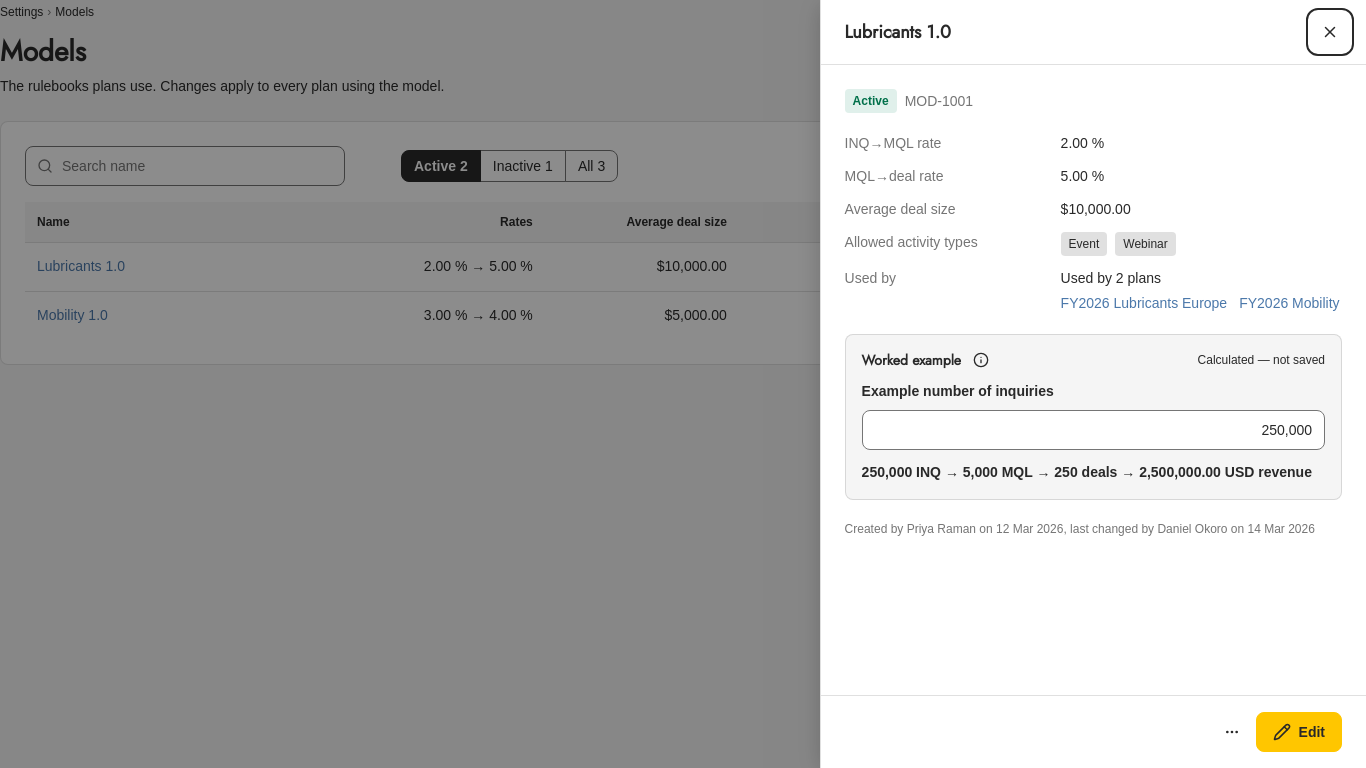
ModelsPage: create and edit (US1 scenarios 1, 4, 5, 6) › asks before a change that recalculates goals, and saves only the changed fields (scenario 4)
Click the button "Edit" at (1299, 732), box [1256,712,1342,752]
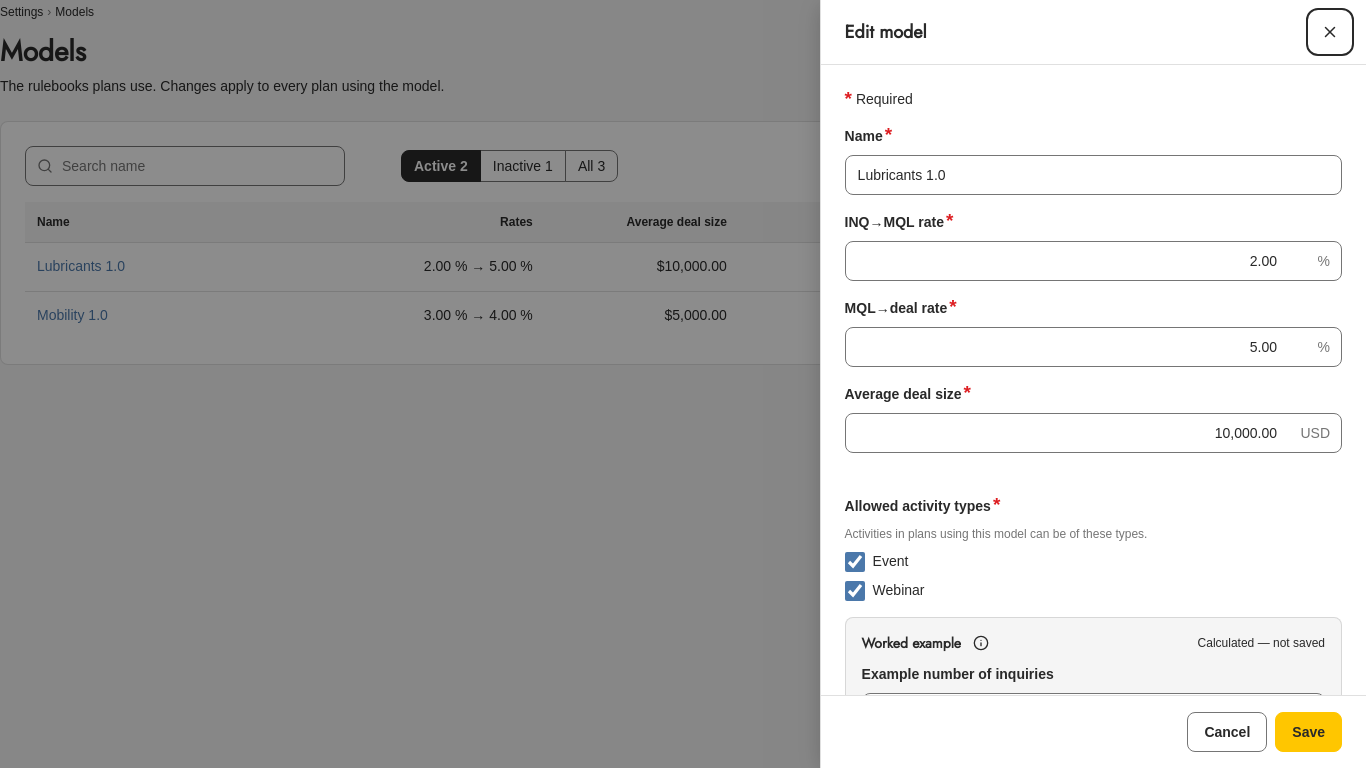
Replace the text in the field labelled "INQ→MQL rate" with "2.5" at (1093, 261), box [845,241,1342,281]
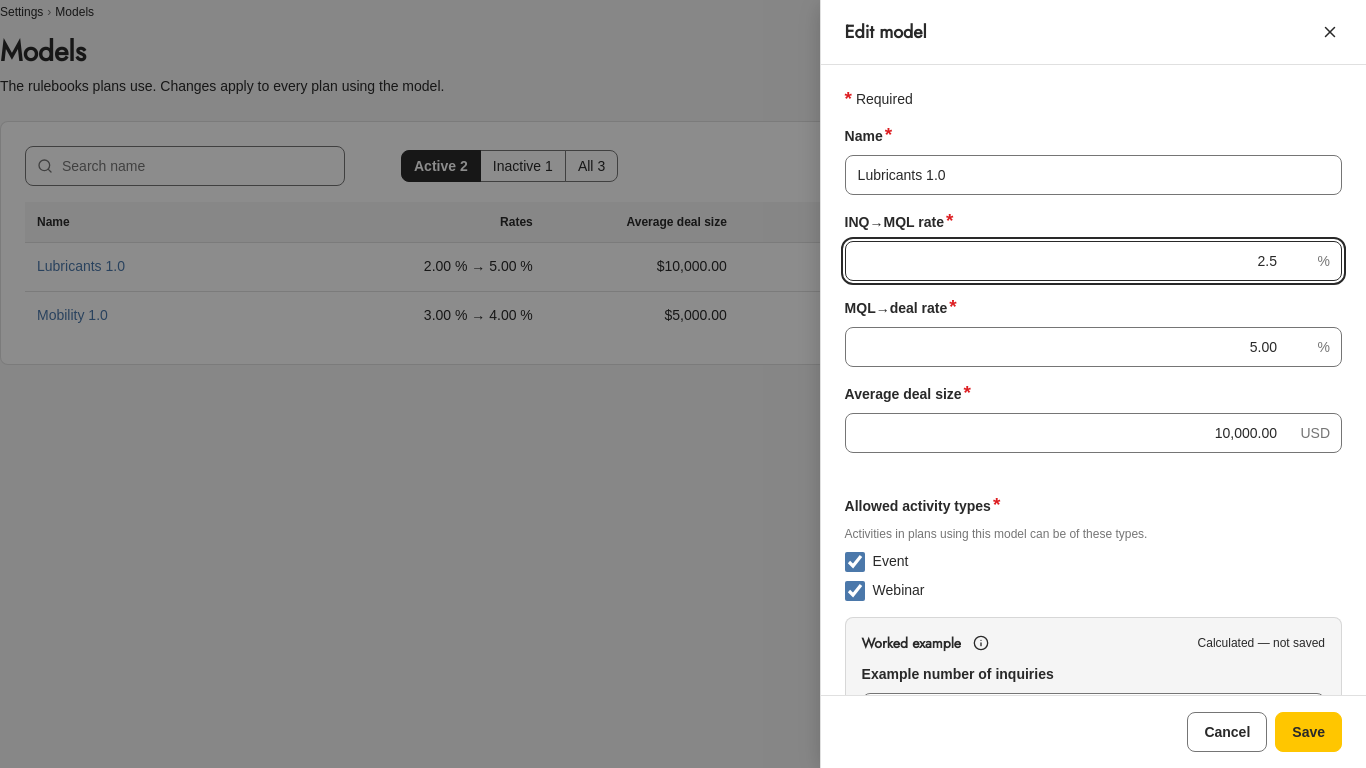
Click the button "Save" at (1309, 732), box [1275,712,1342,752]
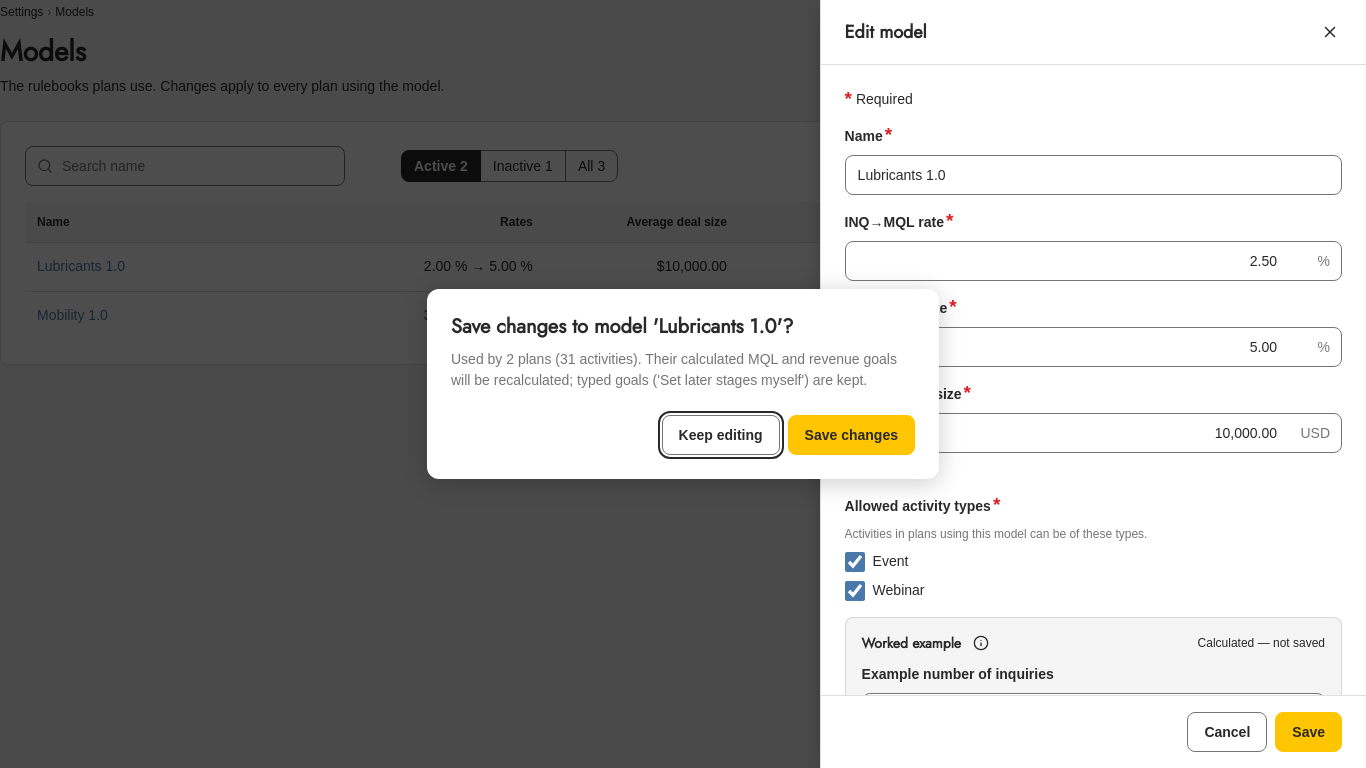
Now the dialog "Save changes to model 'Lubricants 1.0'?" shows "Used by 2 plans (31 activities). Their calculated MQL and revenue goals will be recalculated; typed goals ('Set later stages myself') are kept.", box [451,351,897,388]
Click the button "Save changes" at (851, 435), box [788,415,915,455]
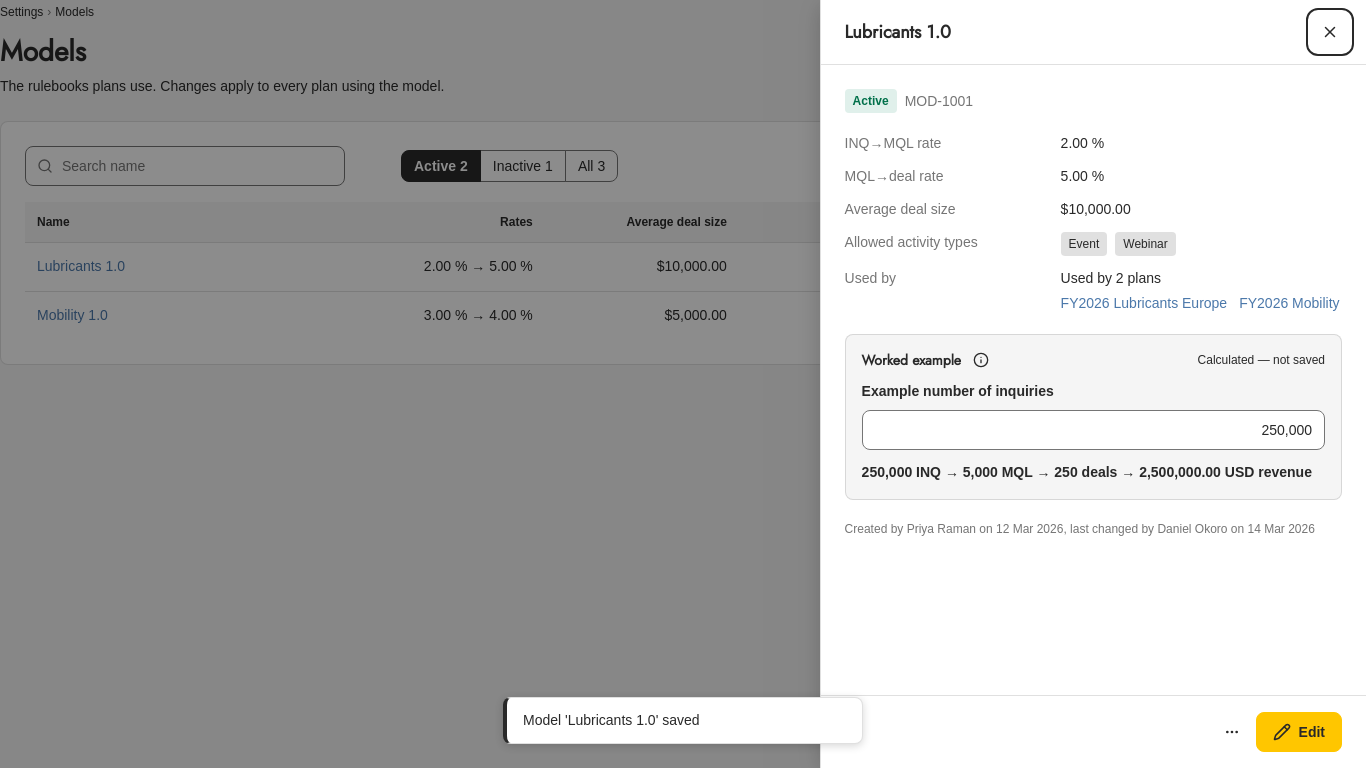
Now the dialog "Lubricants 1.0" is shown, box [820,0,1365,767]
